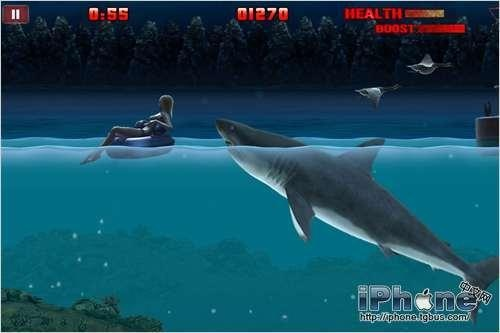fish: (214, 115, 500, 297)
person: (75, 93, 177, 166)
